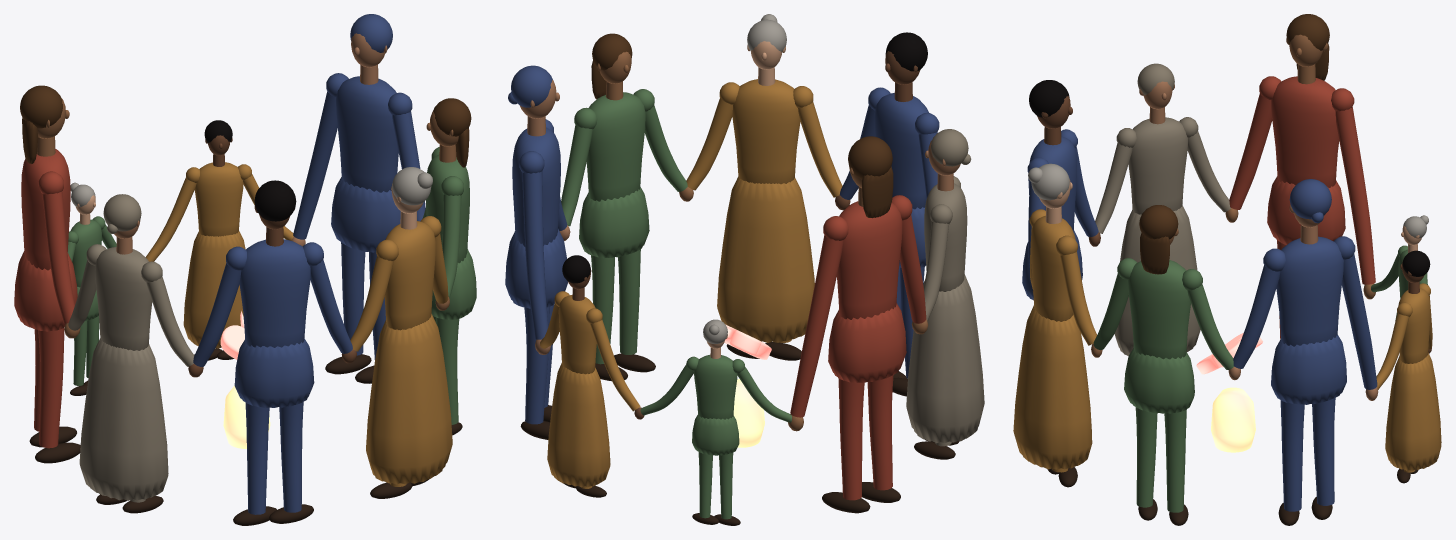
File: gomen-circle.glb
3 renders of one model, left to right at view 1: azimuth 30°, elevation 25°; view 2: azimuth 150°, elevation 25°; view 3: azimuth 270°, elevation 25°, orthographic. The views are drawn at different scales.
Parts seen in each view (by area): view 1: person 6 robe, person 4 robe, person 5 torso, person 0 torso, person 4 torso, person 5 tunic, person 6 torso, person 1 robe, person 0 tunic, person 3 torso, person 1 torso, person 3 tunic (+35 smaller); view 2: person 6 robe, person 4 robe, person 1 robe, person 3 torso, person 6 torso, person 7 torso, person 3 tunic, person 7 tunic, person 5 torso, person 3 arm -1, person 0 torso, person 0 arm 1 (+41 smaller); view 3: person 6 robe, person 3 torso, person 0 torso, person 1 robe, person 7 torso, person 4 torso, person 0 tunic, person 7 tunic, person 6 torso, person 3 arm -1, person 4 robe, person 3 tunic (+29 smaller).
Part boxes in pixels (bbox=[...]): person 6 robe: bbox=[366, 314, 452, 484]; person 4 robe: bbox=[79, 338, 168, 500]; person 5 torso: bbox=[239, 239, 310, 347]; person 0 torso: bbox=[336, 76, 398, 192]; person 4 torso: bbox=[95, 247, 152, 350]; person 5 tunic: bbox=[234, 338, 314, 408]; person 6 torso: bbox=[384, 221, 435, 330]; person 1 robe: bbox=[183, 231, 245, 348]; person 0 tunic: bbox=[331, 177, 400, 252]; person 3 torso: bbox=[21, 149, 70, 270]; person 1 torso: bbox=[194, 162, 243, 236]; person 3 tunic: bbox=[14, 251, 77, 331]; person 6 robe: bbox=[717, 176, 814, 342]; person 4 robe: bbox=[906, 274, 984, 442]; person 1 robe: bbox=[547, 363, 610, 487]; person 3 torso: bbox=[836, 201, 902, 319]; person 6 torso: bbox=[732, 79, 800, 184]; person 7 torso: bbox=[586, 92, 645, 201]; person 3 tunic: bbox=[828, 303, 906, 383]; person 7 tunic: bbox=[579, 187, 649, 258]; person 5 torso: bbox=[874, 93, 928, 209]; person 3 arm -1: bbox=[790, 235, 843, 417]; person 0 torso: bbox=[512, 127, 560, 246]; person 0 arm 1: bbox=[522, 171, 548, 339]; person 6 robe: bbox=[1013, 305, 1092, 469]; person 3 torso: bbox=[1271, 76, 1339, 187]; person 0 torso: bbox=[1276, 236, 1343, 346]; person 1 robe: bbox=[1385, 352, 1441, 470]; person 7 torso: bbox=[1128, 260, 1190, 359]; person 4 torso: bbox=[1128, 117, 1187, 214]; person 0 tunic: bbox=[1271, 335, 1346, 404]; person 7 tunic: bbox=[1124, 348, 1194, 413]; person 6 torso: bbox=[1031, 215, 1075, 321]; person 3 arm -1: bbox=[1335, 107, 1375, 284]; person 4 robe: bbox=[1114, 205, 1200, 355]; person 3 tunic: bbox=[1267, 176, 1345, 245].
Size of the model in its own units: 2.09 by 1.89 by 2.09.
